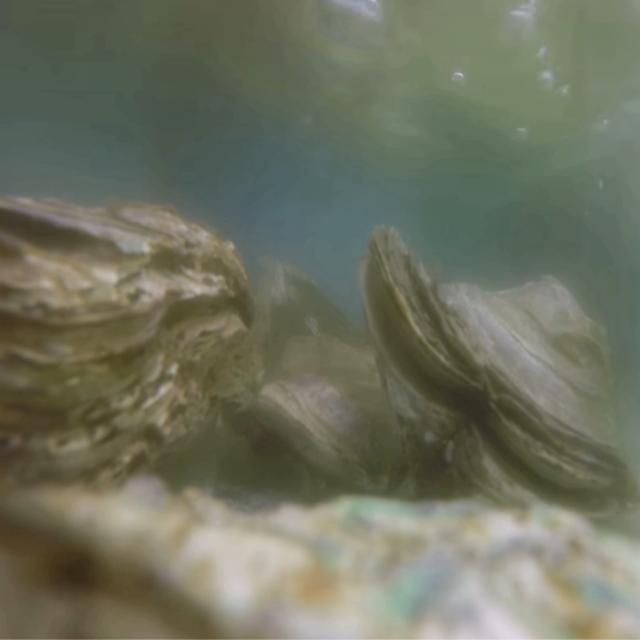Oyster-Closed: (0, 197, 257, 531)
Oyster-Indeterminate: (0, 476, 640, 640), (256, 337, 418, 502)
Oyster-Open: (358, 222, 640, 532)
